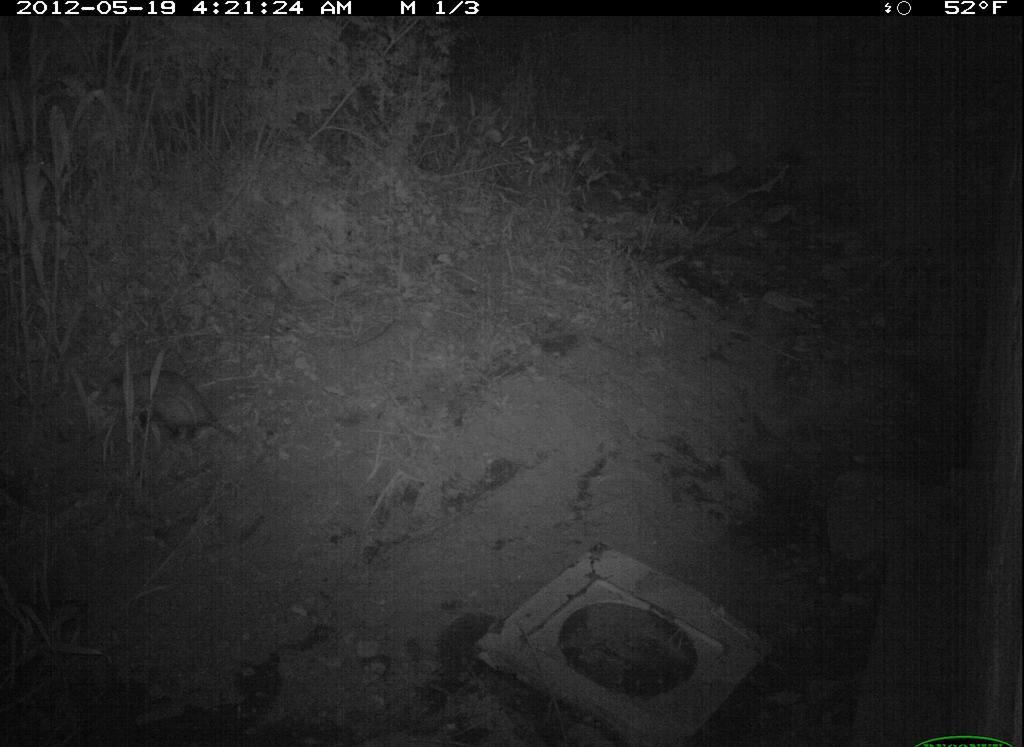opossum: (86, 354, 245, 466)
